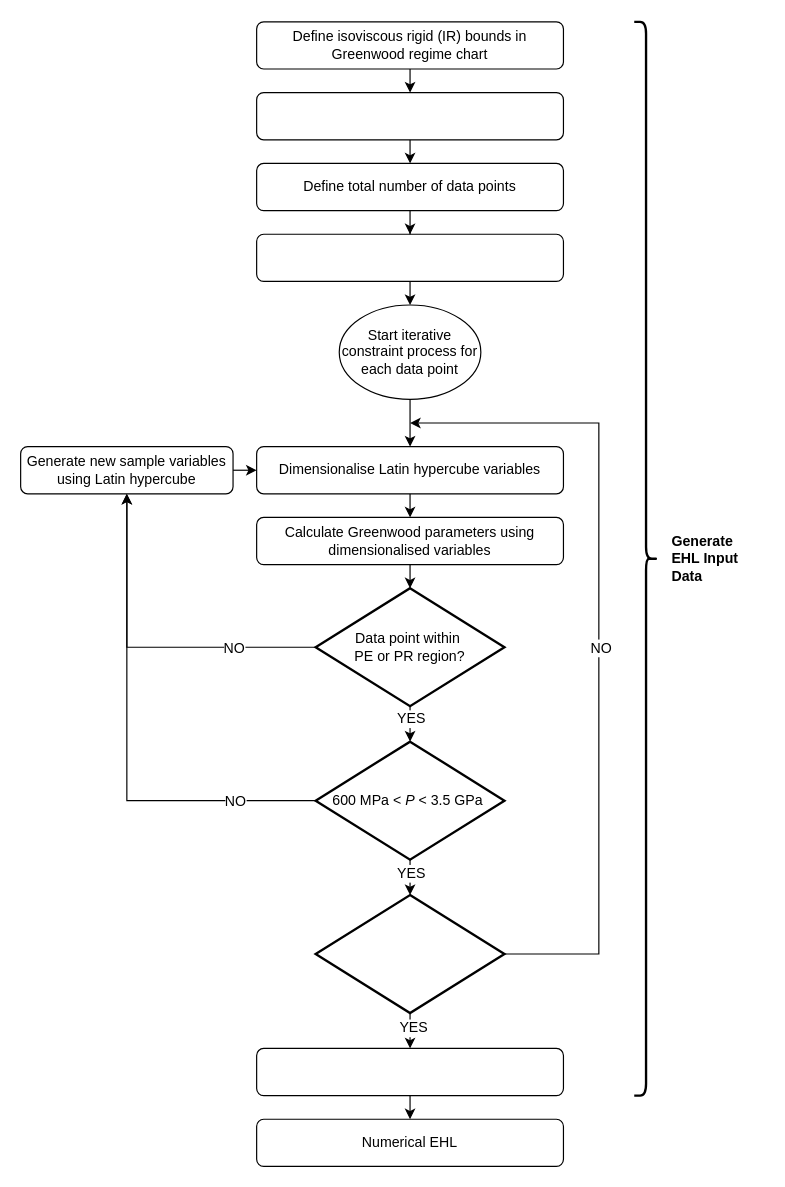
Some shapes in this 785 by 1187 pixel diagram are drawn without their labels. The centre of each missing label's shape, as x and y in pixels:
All data points constrained?: pixel 409 953
Define upper and lower limits of input variables: pixel 409 115
Generate initial sample set using Latin hypercube: pixel 409 257
Output input variables corresponding to constrained data points: pixel 409 1071
